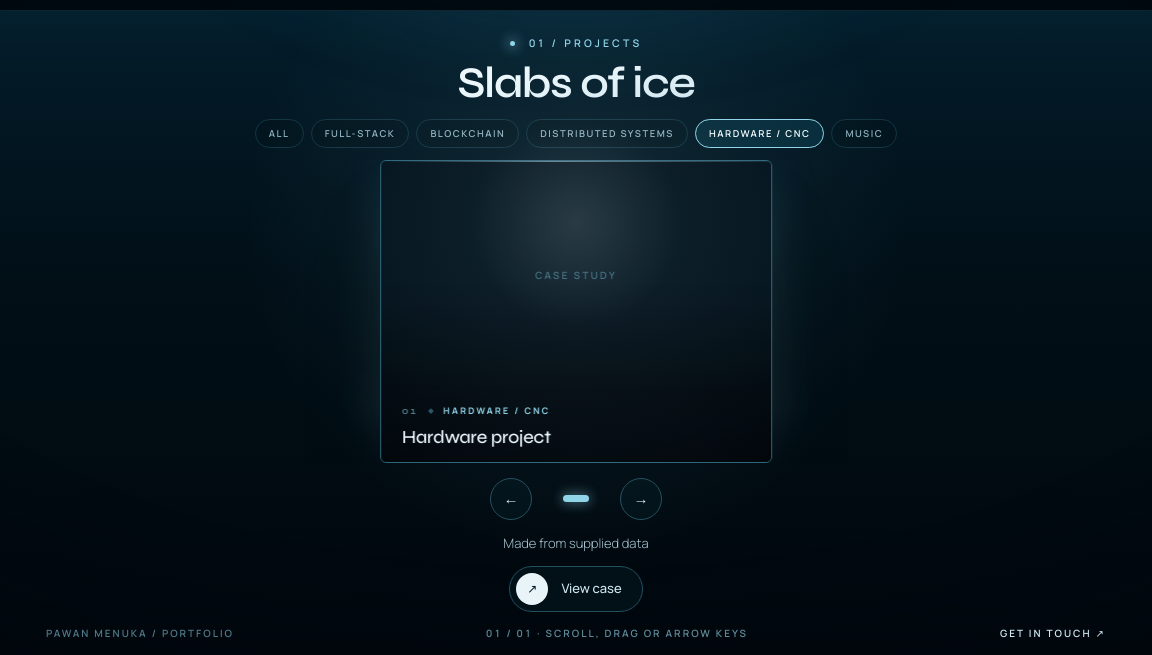
Test case: Projects › loads the complete deck once and preserves section filters in the URL
Check: the heading "Hardware project" is shown, box [402,426,551,448]
What coordinates should you click on to do the following:
click the button "Distributed Systems"
I would click on:
 (607, 134)
Its box is [526,119,688,148].
(page scrolled)
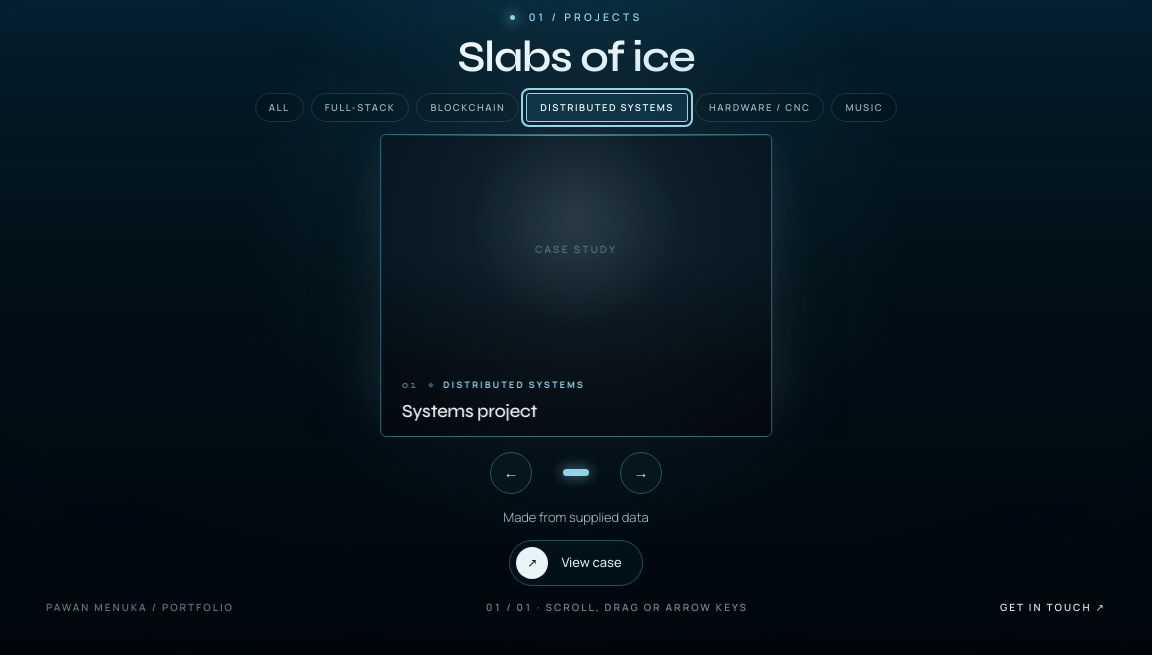
Check: the heading "Systems project" is shown, box [402,400,537,422]
